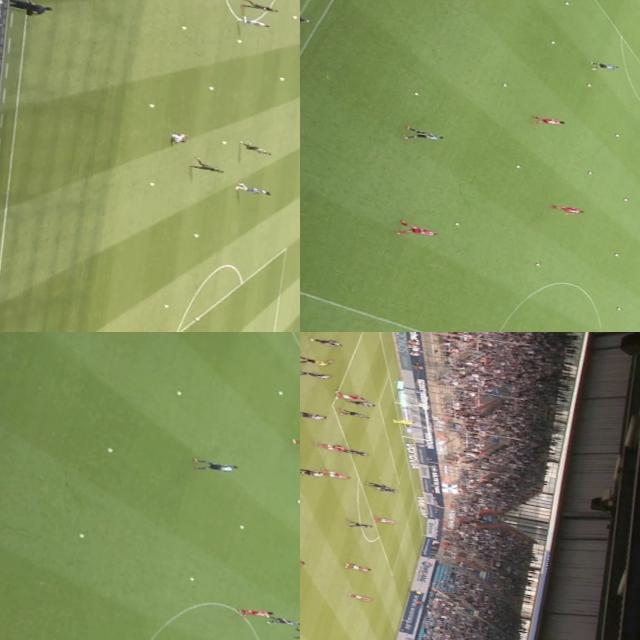ball: (176, 389, 185, 396), (192, 232, 202, 238), (148, 181, 158, 187), (276, 75, 286, 81), (188, 576, 198, 582), (501, 82, 510, 88), (585, 82, 594, 88), (78, 533, 88, 538), (207, 85, 216, 90), (220, 139, 229, 144), (162, 303, 171, 308), (106, 447, 115, 452), (240, 524, 247, 530), (290, 14, 298, 19), (278, 390, 286, 395), (180, 26, 189, 30), (588, 170, 594, 176), (564, 0, 571, 5), (150, 104, 158, 108), (193, 316, 201, 320), (236, 38, 243, 42), (550, 40, 556, 44), (616, 134, 622, 138), (456, 222, 462, 226), (614, 252, 620, 256), (296, 498, 300, 503), (414, 92, 420, 95), (623, 198, 629, 201), (616, 307, 622, 310), (518, 164, 522, 168), (534, 264, 542, 266)
player: (192, 457, 240, 476), (394, 222, 441, 241), (400, 126, 443, 146), (192, 158, 227, 174), (233, 182, 272, 196), (238, 140, 272, 156), (312, 334, 346, 350), (548, 201, 584, 216), (243, 0, 278, 14), (532, 114, 567, 128), (266, 614, 300, 628), (239, 606, 271, 620), (341, 408, 373, 422), (334, 389, 366, 403), (300, 366, 332, 380), (592, 60, 621, 74), (240, 16, 272, 28), (344, 562, 376, 574), (300, 409, 329, 422), (348, 396, 379, 408), (318, 440, 347, 452), (300, 466, 326, 479), (322, 468, 352, 479), (170, 130, 190, 146), (347, 519, 376, 530), (390, 416, 416, 426), (378, 485, 400, 495), (374, 516, 398, 525), (366, 479, 386, 489), (290, 436, 300, 455), (351, 592, 374, 600), (348, 448, 369, 456)
